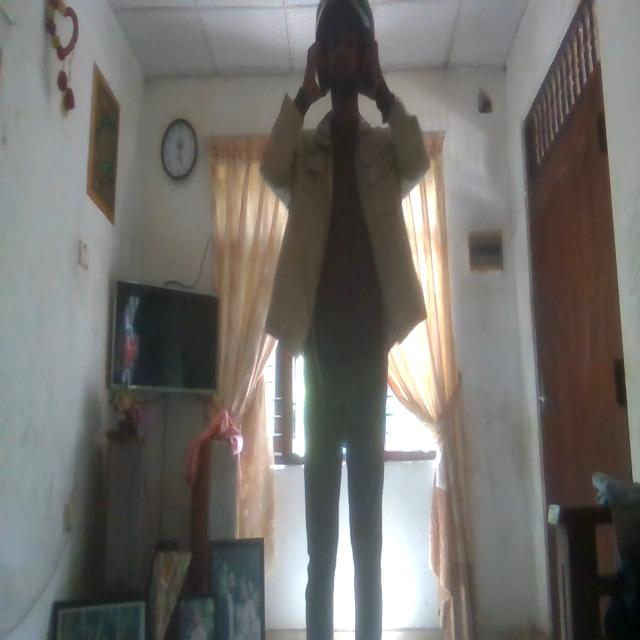Helmet_Wearer: (310, 1, 386, 122)
Jacket_Wearer: (262, 96, 428, 381)
Person: (261, 10, 429, 640)
